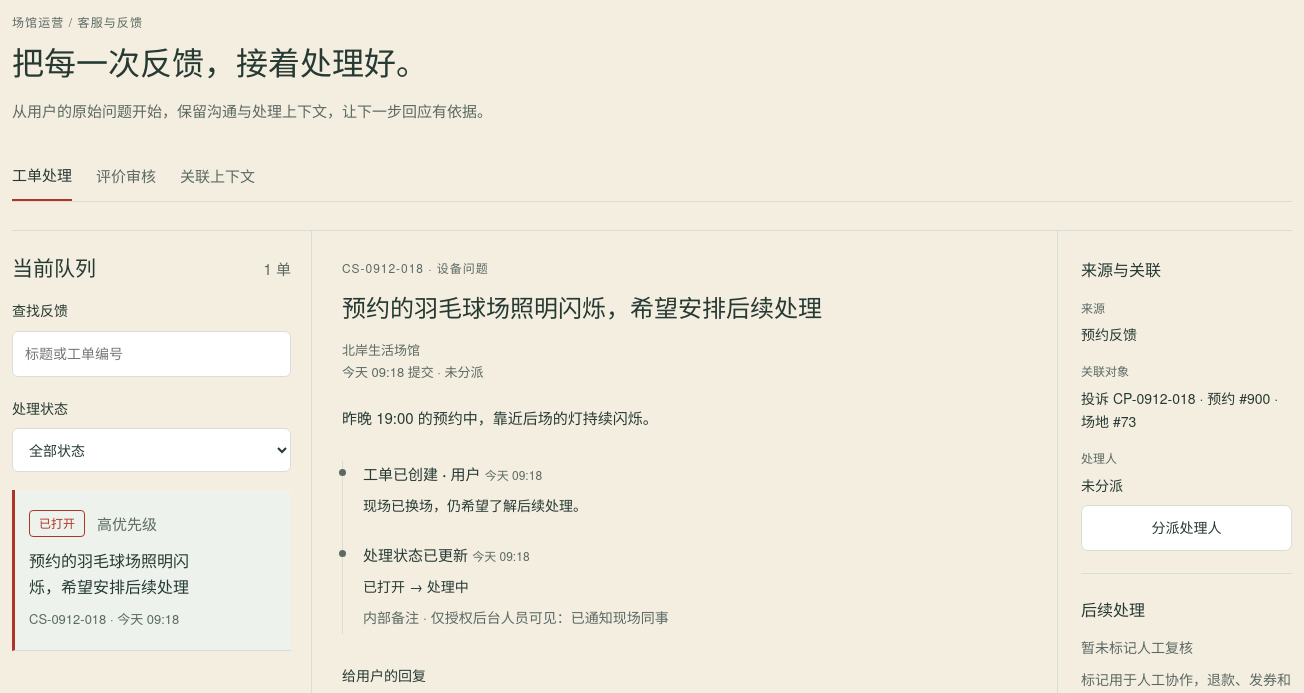
Test: ShiguangVenueCustomerServiceView 队列与权限门控 › 缺 customer-service:analytics 时不读上下文
Click the button with test id "tab-context" at (218, 176), box [180, 152, 255, 202]
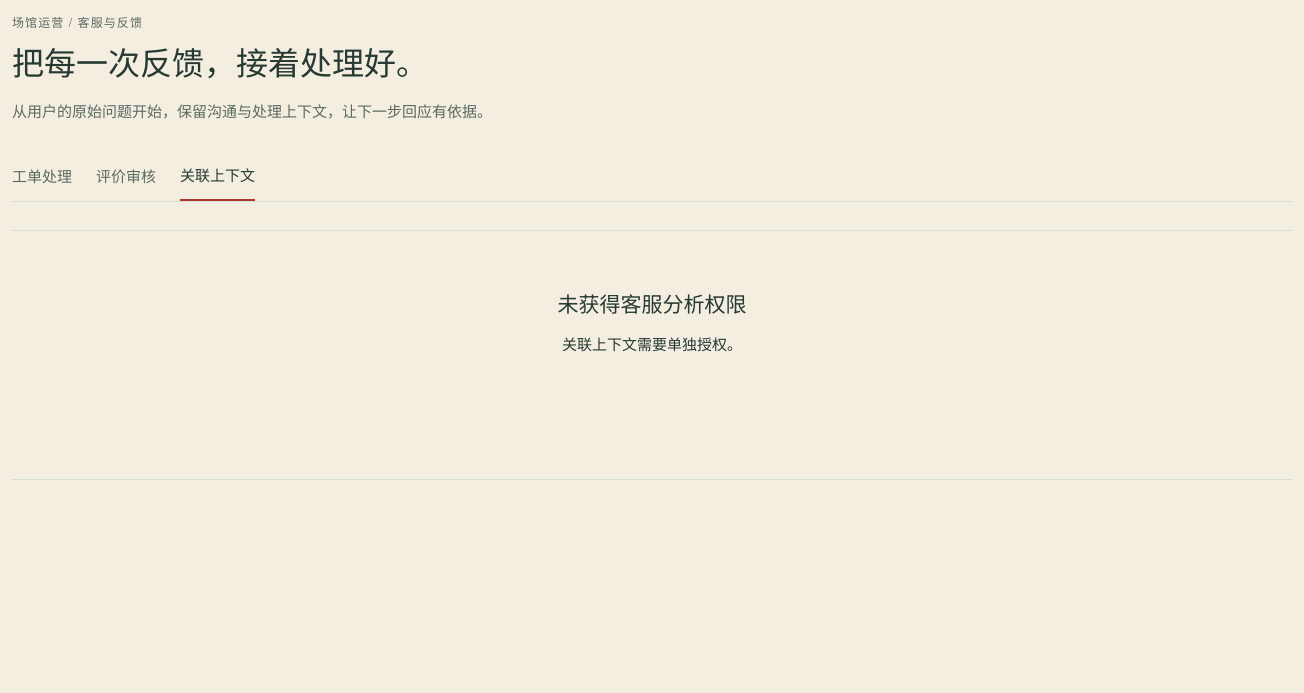
Check: the message with test id "denied-context" shows "关联上下文需要单独授权", box [562, 333, 742, 354]
